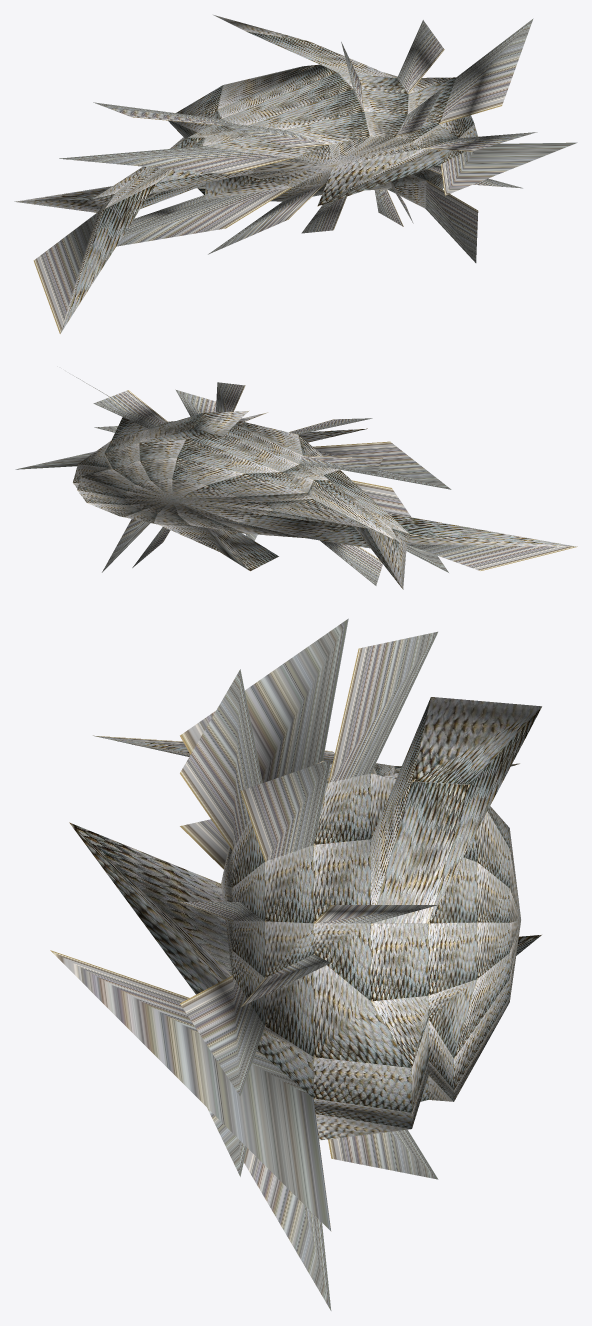
The model's file is fish_000007.obj.
3 views of the same model, one above another, from view 1: azimuth 30°, elevation 25°; view 2: azimuth 150°, elevation 25°; view 3: azimuth 270°, elevation 25° (orthographic). The views are drawn at different scales.
Visible parts, largest first — view 1: Sphere; view 2: Sphere; view 3: Sphere.
Boxes of the visible parts, x1,y1,x2,y2 form: Sphere: (14,15,577,333); Sphere: (15,373,577,589); Sphere: (50,618,541,1310).
Size of the model in its own units: 7.02 by 2.97 by 2.97.
